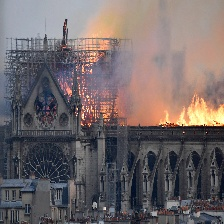fire: (63, 36, 122, 123), (156, 93, 223, 128)
smoke: (101, 5, 224, 111)
